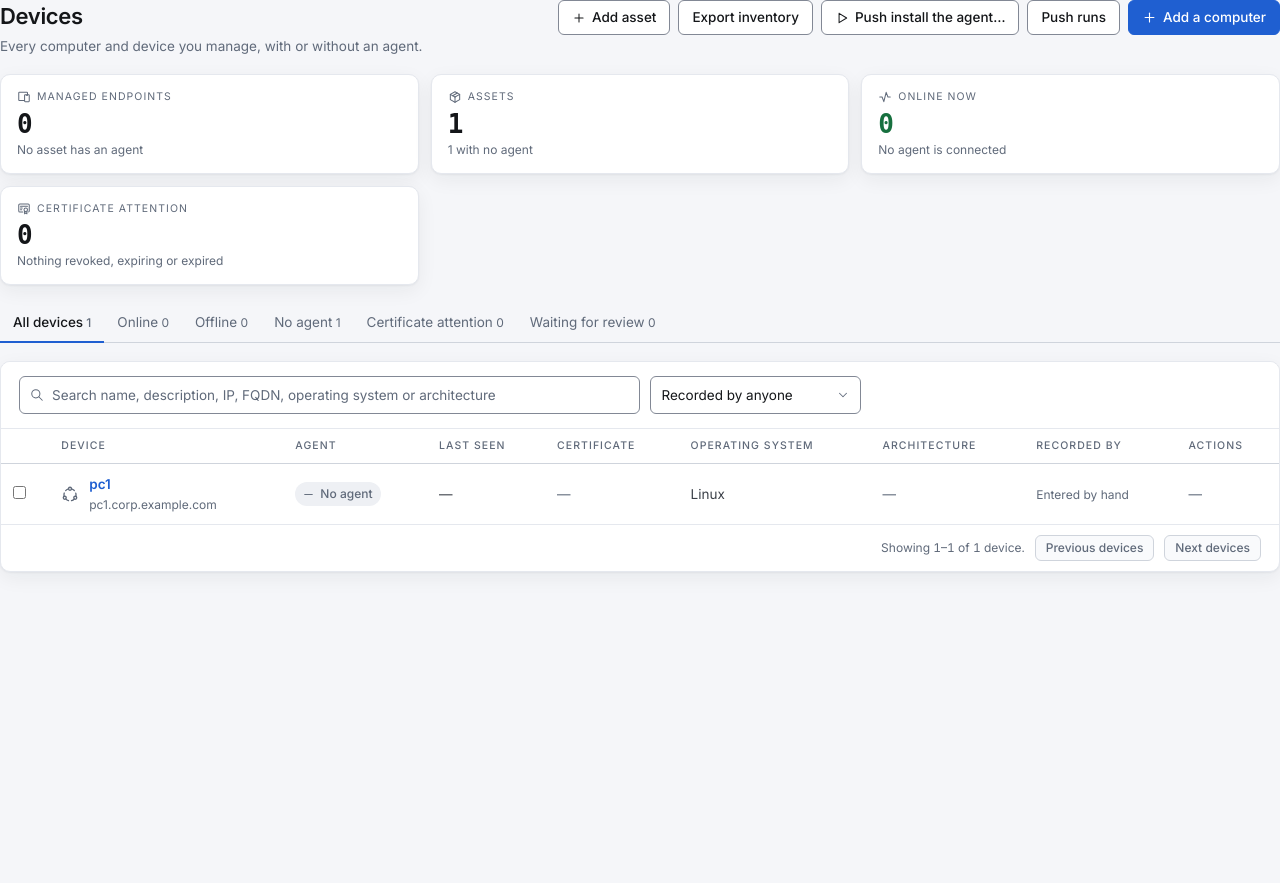
Test: the push install flow › says a machine with no OS or processor recorded cannot be pushed yet
Expected: the link "pc1" is shown, top-left (89, 476), bottom-right (111, 492)
Click the checkbox named "Select pc1 for push install" at [20, 493], box top-left (13, 486), bottom-right (26, 499)
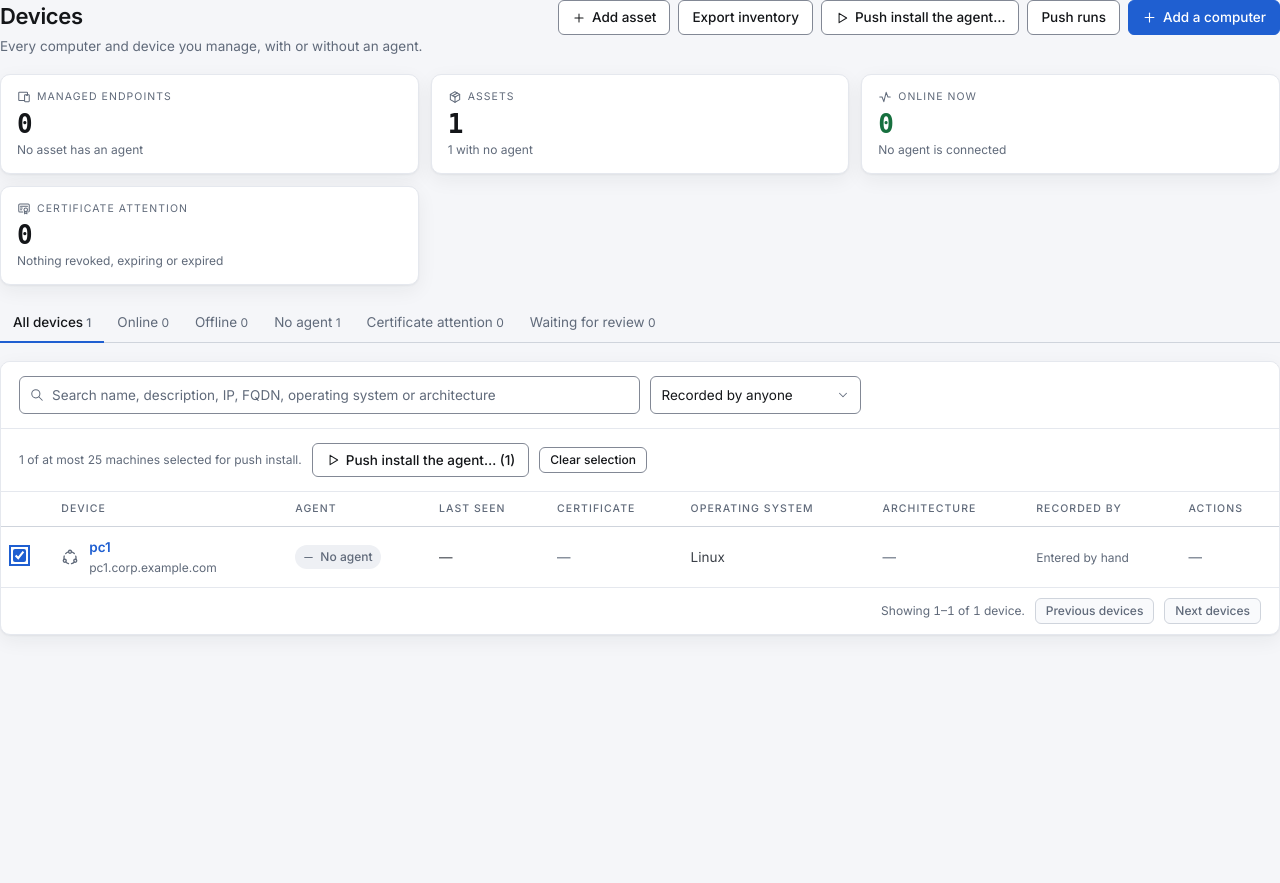
Click the button "Push install the agent… (1)" at [420, 460], box top-left (312, 443), bottom-right (529, 477)
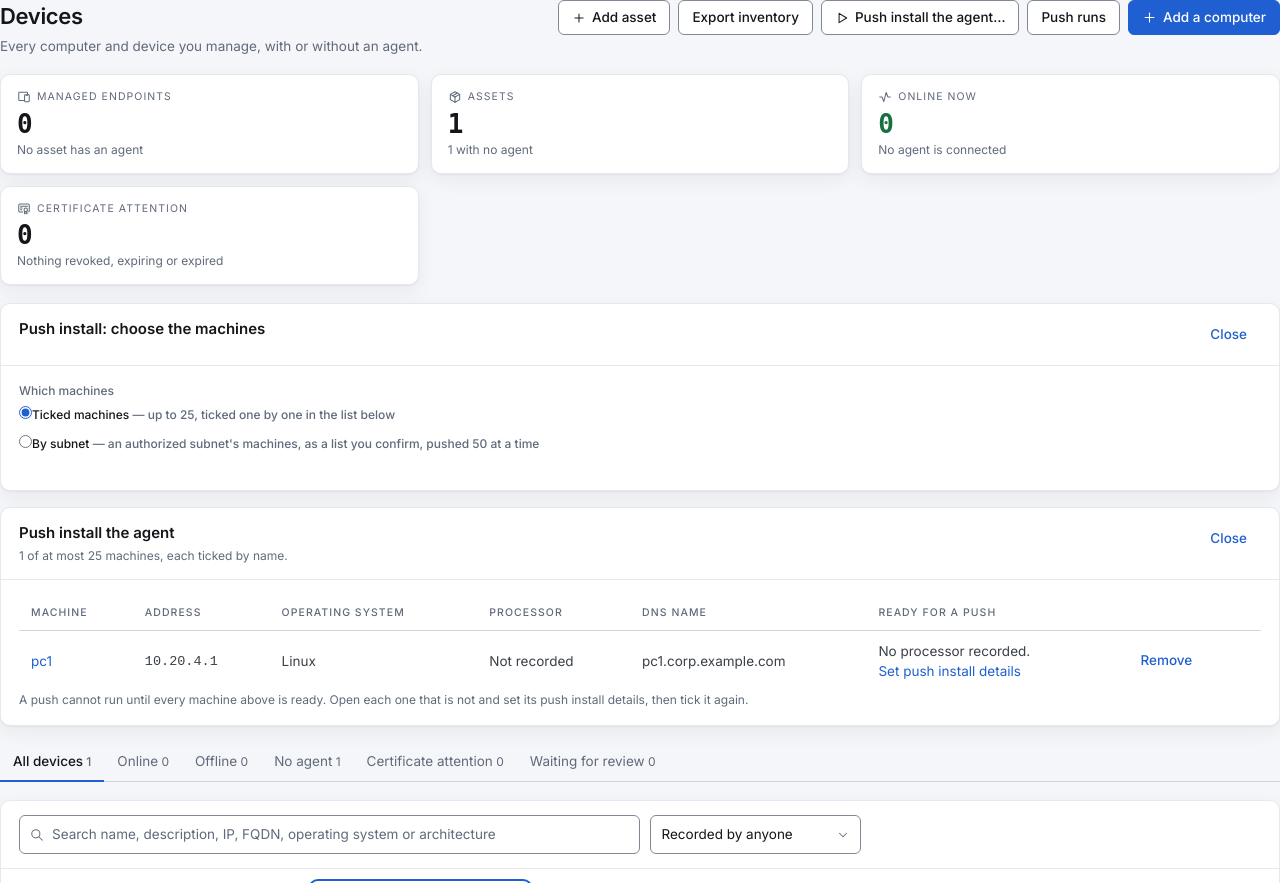
Result: the text "No processor recorded." is shown at top-left (878, 643), bottom-right (1030, 659)
